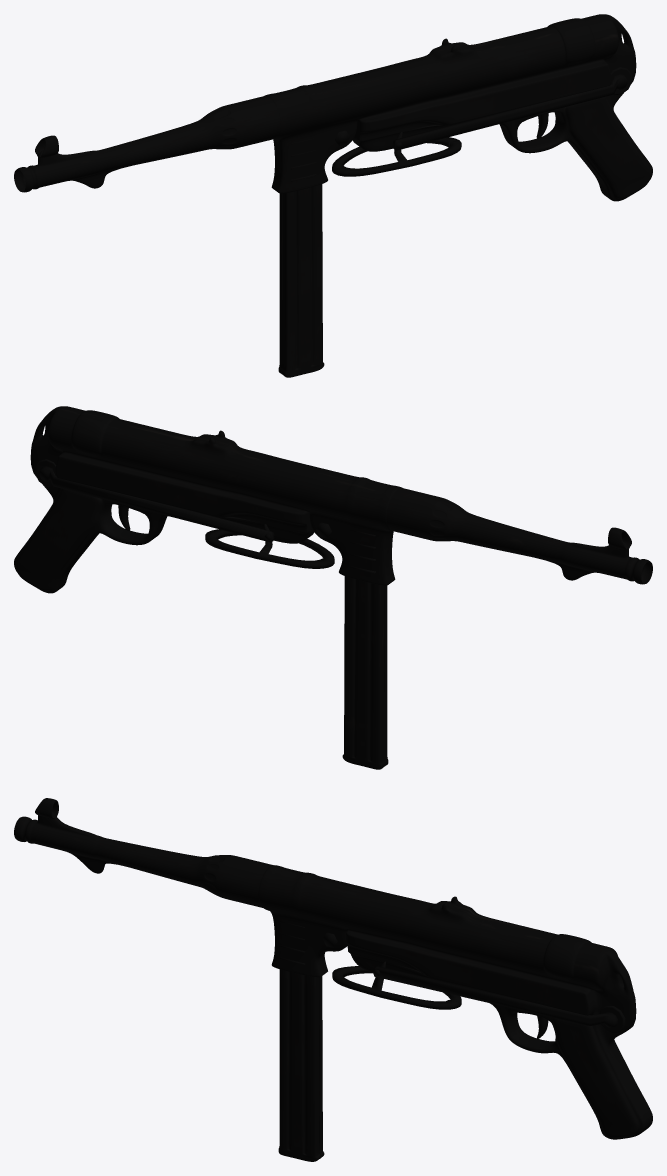
3 renders of one model, top to bottom at view 1: azimuth 30°, elevation 25°; view 2: azimuth 150°, elevation 25°; view 3: azimuth 330°, elevation 25°, orthographic.
Parts seen in each view (by area): view 1: MP40 baked.001; view 2: MP40 baked.001; view 3: MP40 baked.001.
Part boxes in pixels (x1,y1,x2,y2): MP40 baked.001: [14, 14, 652, 377]; MP40 baked.001: [14, 406, 652, 769]; MP40 baked.001: [14, 798, 652, 1161].
Size of the model in its own units: 158 by 71.21 by 13.17.
